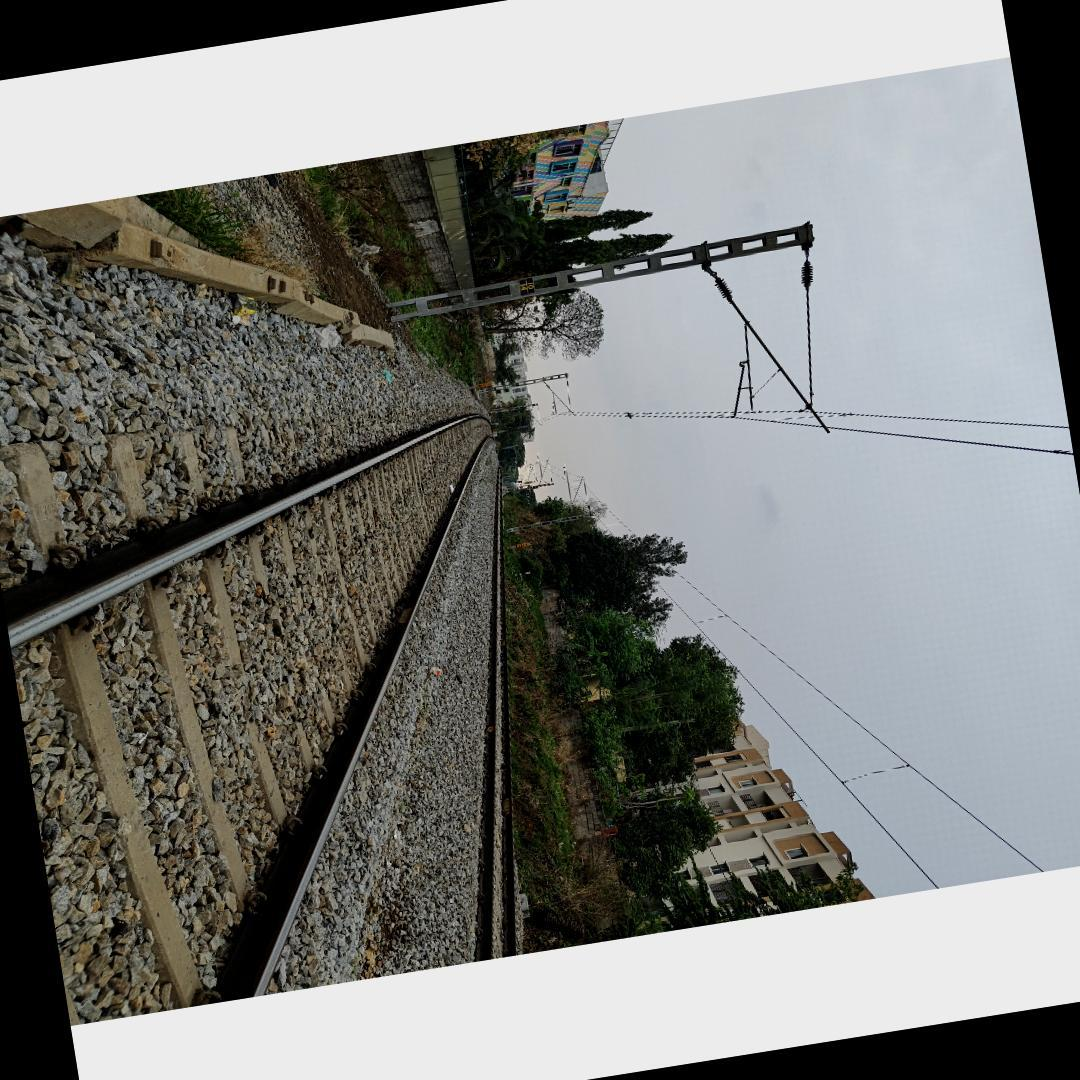track: (0, 410, 497, 1024)
